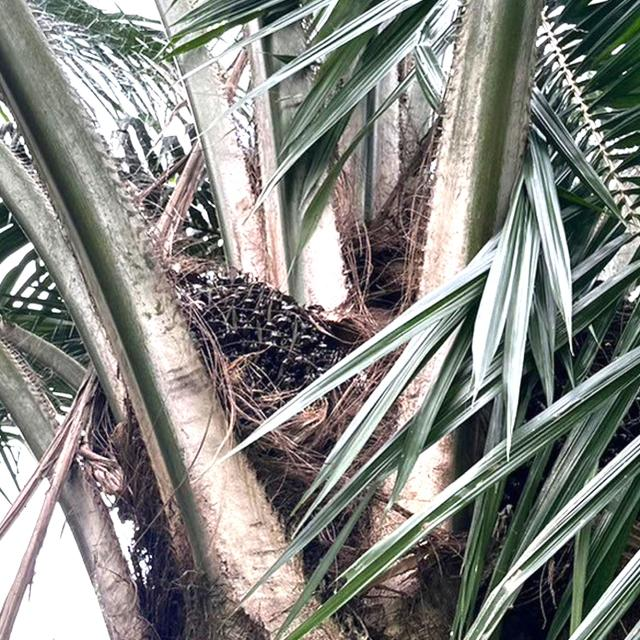unripe: (175, 270, 334, 394)
